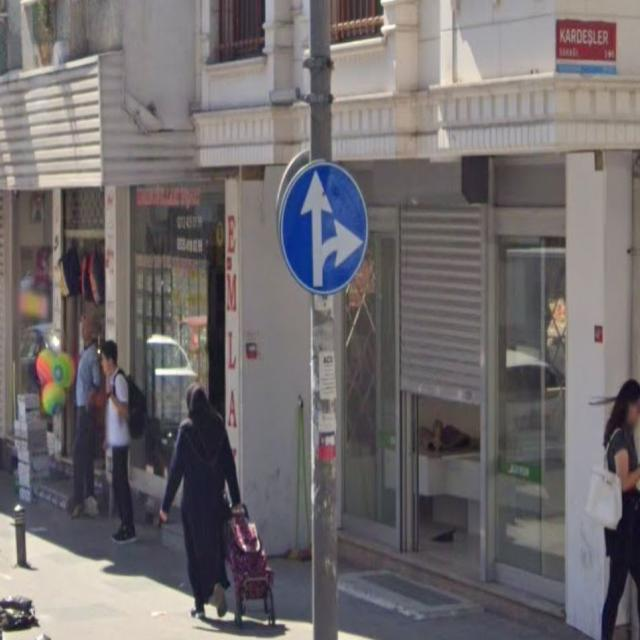ilerisag: (280, 159, 369, 292)
